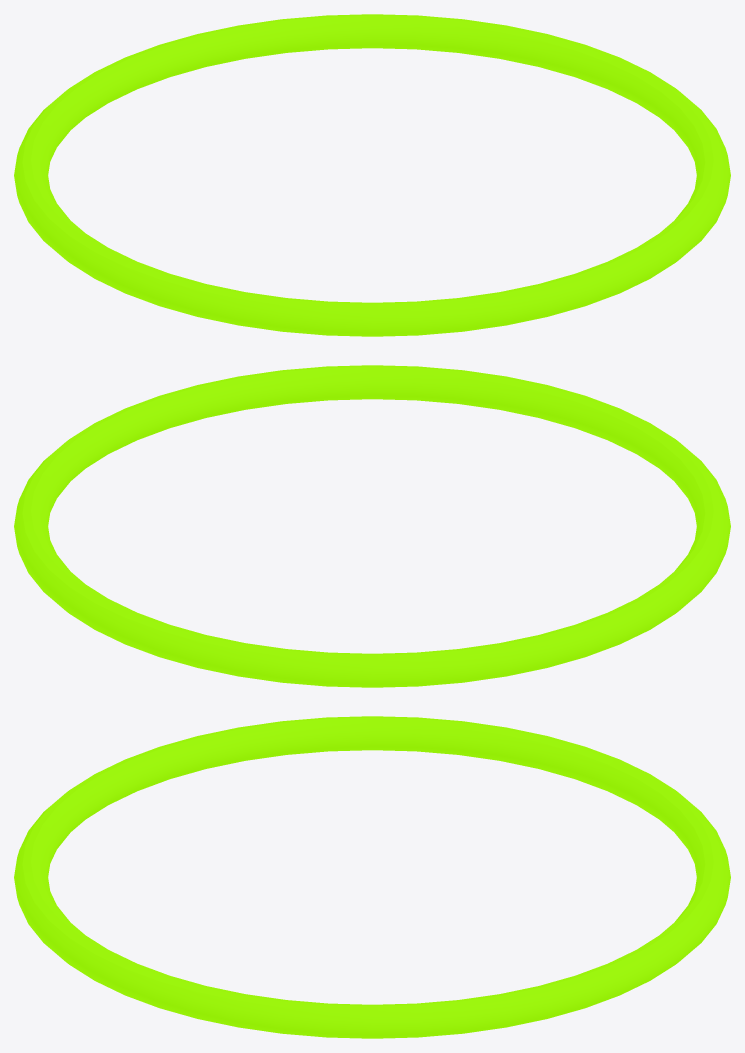
The model's file is safe_space.glb.
The picture shows the model from 3 angles, top to bottom: view 1: azimuth 30°, elevation 25°; view 2: azimuth 150°, elevation 25°; view 3: azimuth 270°, elevation 25°; orthographic projection.
Parts seen in each view (by area): view 1: Torus; view 2: Torus; view 3: Torus.
Part boxes in pixels (x1,y1,x2,y2): Torus: [14, 14, 730, 336]; Torus: [14, 365, 730, 687]; Torus: [14, 716, 730, 1038].
Bounding box in the file's own units: 2.02 × 0.0963 × 2.02.
